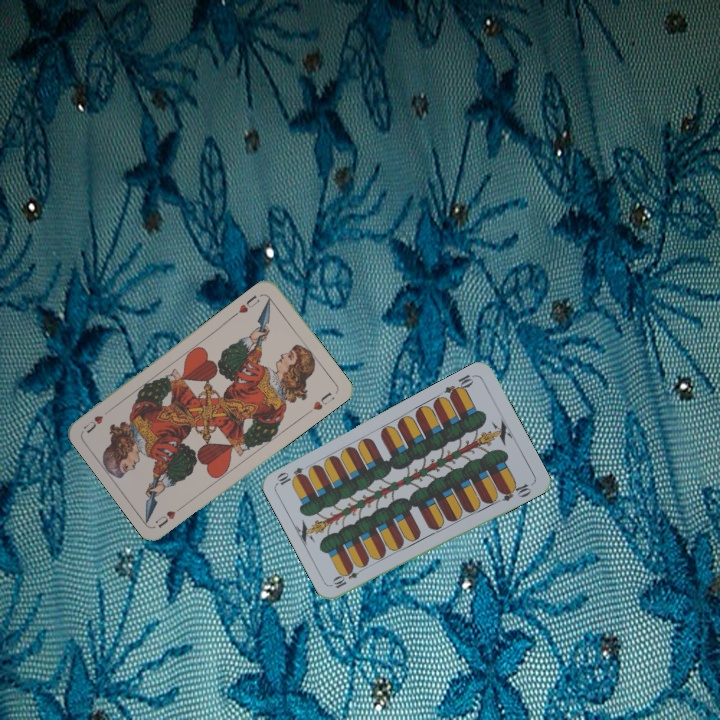E10: (440, 370, 478, 401), (329, 563, 367, 591)
HU: (151, 500, 187, 530), (230, 290, 262, 319)
